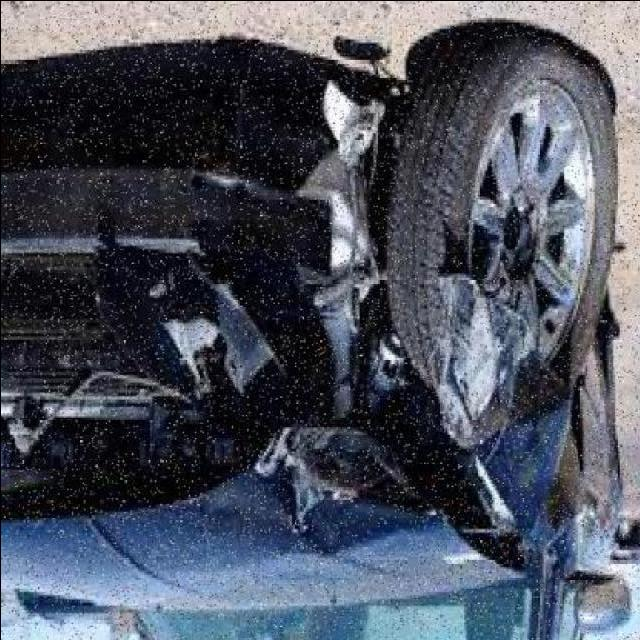bonnet-dent: (2, 416, 535, 619)
